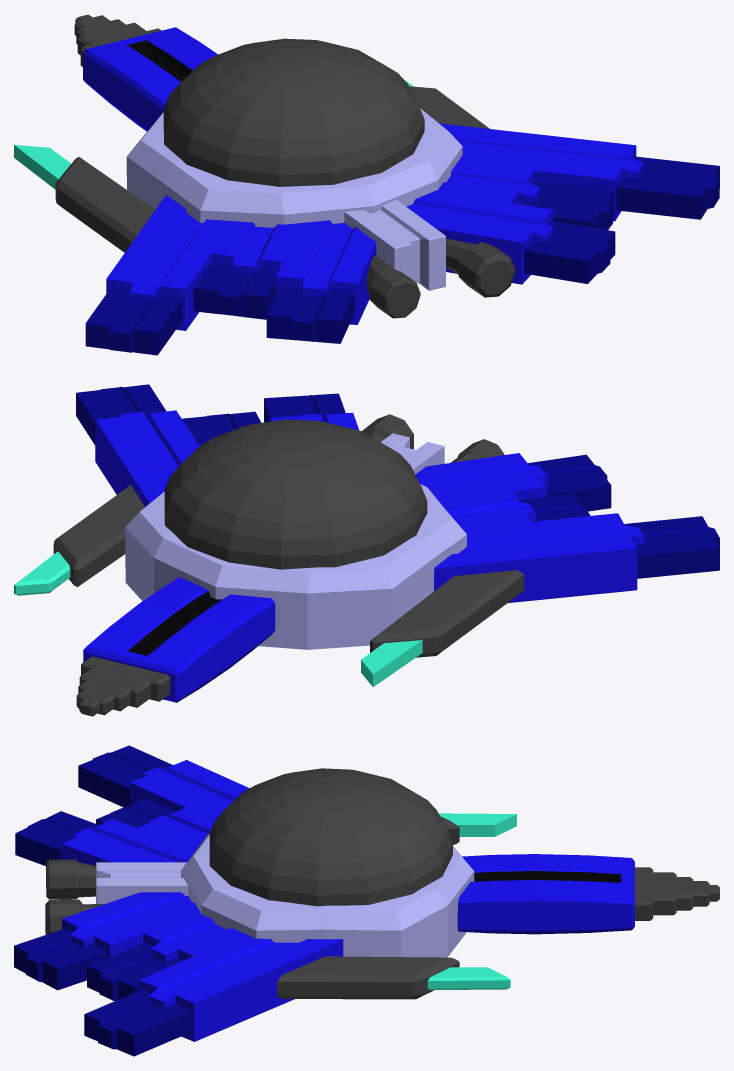
The model's file is main ship.fbx.
3 views of the same model, one above another, from view 1: azimuth 30°, elevation 25°; view 2: azimuth 150°, elevation 25°; view 3: azimuth 270°, elevation 25° (orthographic). The views are drawn at different scales.
Parts seen in each view (by area): view 1: Ship; view 2: Ship; view 3: Ship.
Part boxes in pixels (x1,y1,x2,y2): Ship: [14, 14, 719, 355]; Ship: [14, 384, 719, 716]; Ship: [14, 745, 719, 1056].
Bounding box in the file's own units: 979 × 232 × 1009.
